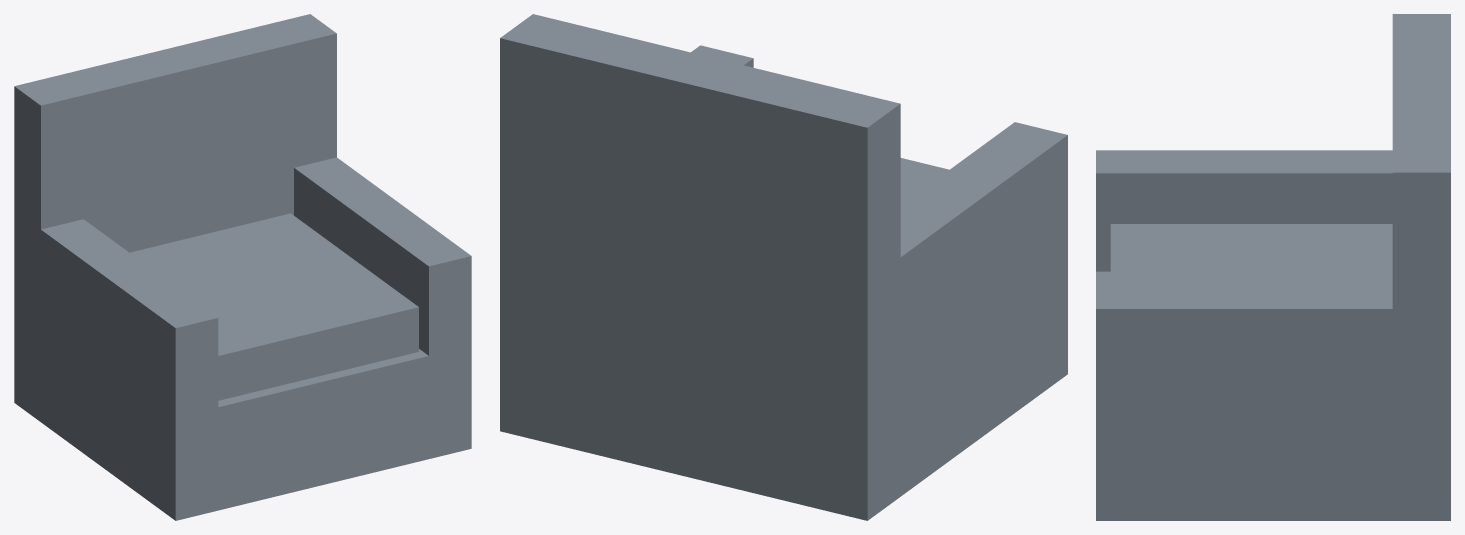
Rendered from armchair.glb.
3 views of the same model, side by side, from view 1: azimuth 30°, elevation 25°; view 2: azimuth 150°, elevation 25°; view 3: azimuth 270°, elevation 25° (orthographic). The views are drawn at different scales.
Visible parts, largest first — view 1: armchair; view 2: armchair; view 3: armchair.
Part boxes in pixels (x1,y1,x2,y2): armchair: (14,14,471,520); armchair: (500,14,1067,520); armchair: (1096,14,1450,520).
Size of the model in its own units: 0.9 by 0.92 by 0.85.
